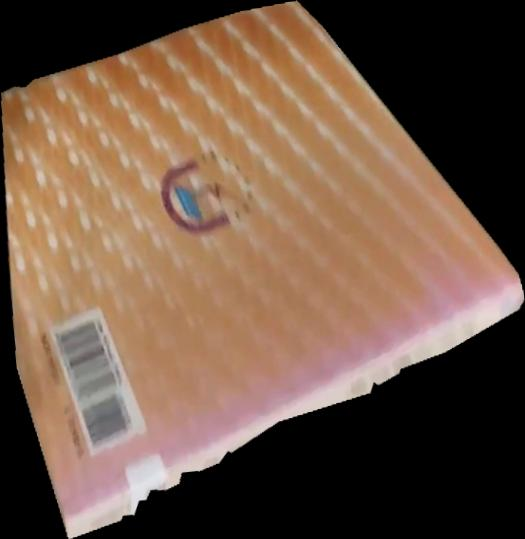flat: (1, 1, 525, 539)
